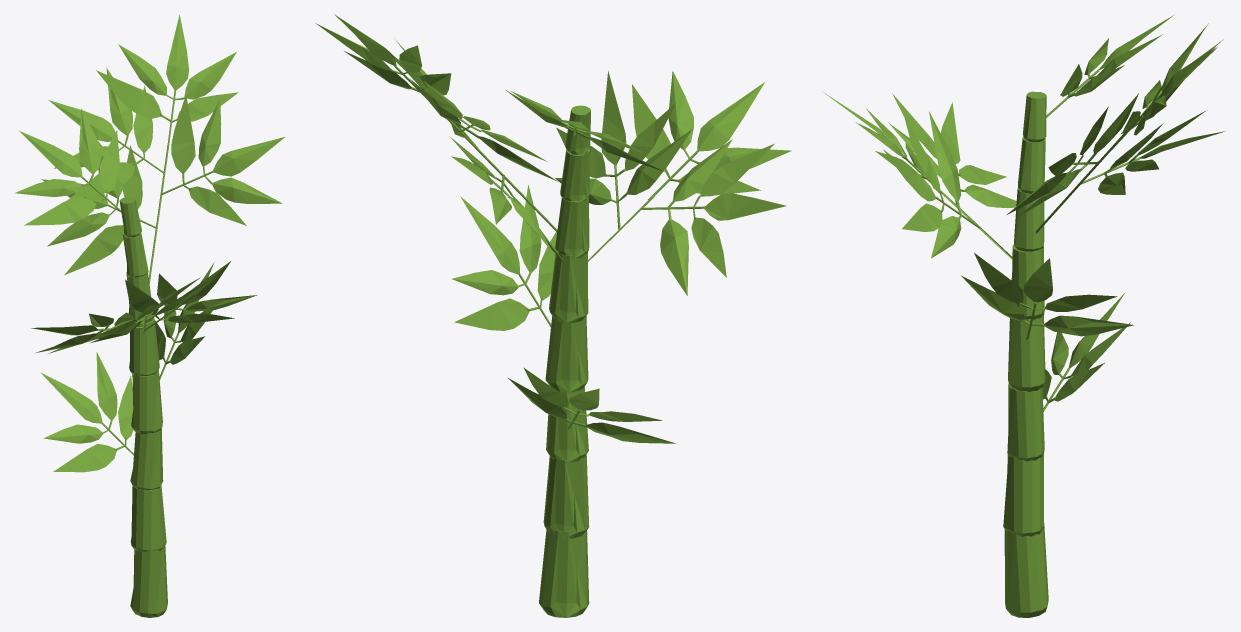
3 views of the same model, side by side, from view 1: azimuth 30°, elevation 25°; view 2: azimuth 150°, elevation 25°; view 3: azimuth 270°, elevation 25° (orthographic). The views are drawn at different scales.
Visible parts, largest first — view 1: node_MeshObject-331592576-PolyPaper9; view 2: node_MeshObject-331592576-PolyPaper9; view 3: node_MeshObject-331592576-PolyPaper9.
Boxes of the visible parts, x1,y1,x2,y2 form: node_MeshObject-331592576-PolyPaper9: (14, 15, 284, 617); node_MeshObject-331592576-PolyPaper9: (315, 14, 791, 617); node_MeshObject-331592576-PolyPaper9: (823, 15, 1224, 617).
Size of the model in its own units: 0.8382 by 1.39 by 0.8149.
